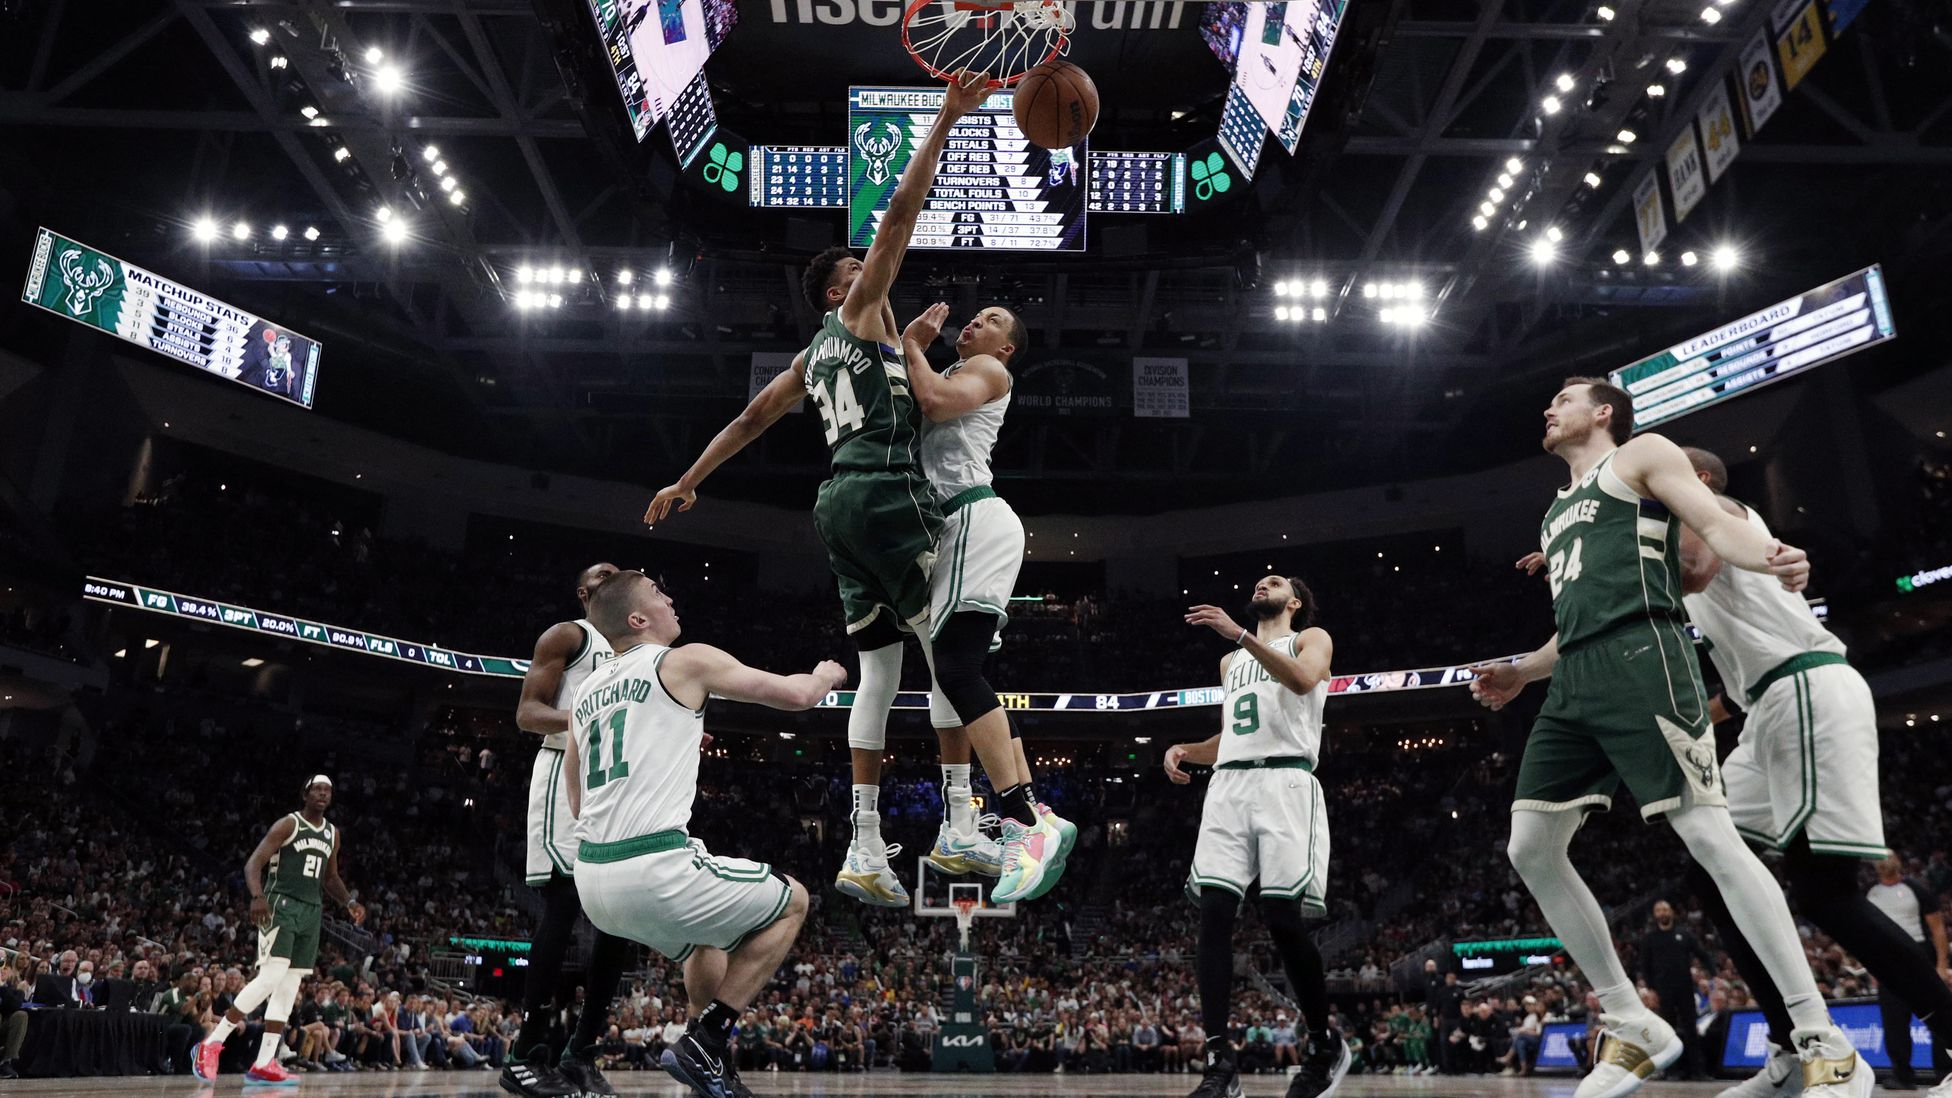basketball: (1008, 62, 1125, 170)
basketball_player: (1438, 318, 1795, 1098), (634, 253, 943, 966), (547, 553, 864, 1098), (1138, 544, 1369, 1098), (912, 292, 1069, 922), (186, 753, 369, 1098)
basketball_rim: (899, 1, 1073, 75)
basketball_table: (47, 222, 330, 414), (1595, 262, 1908, 435)
